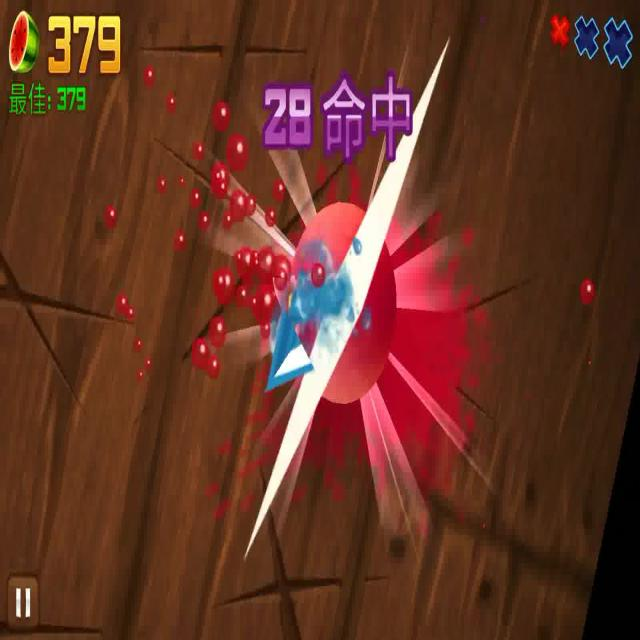fruit: (289, 206, 398, 412)
